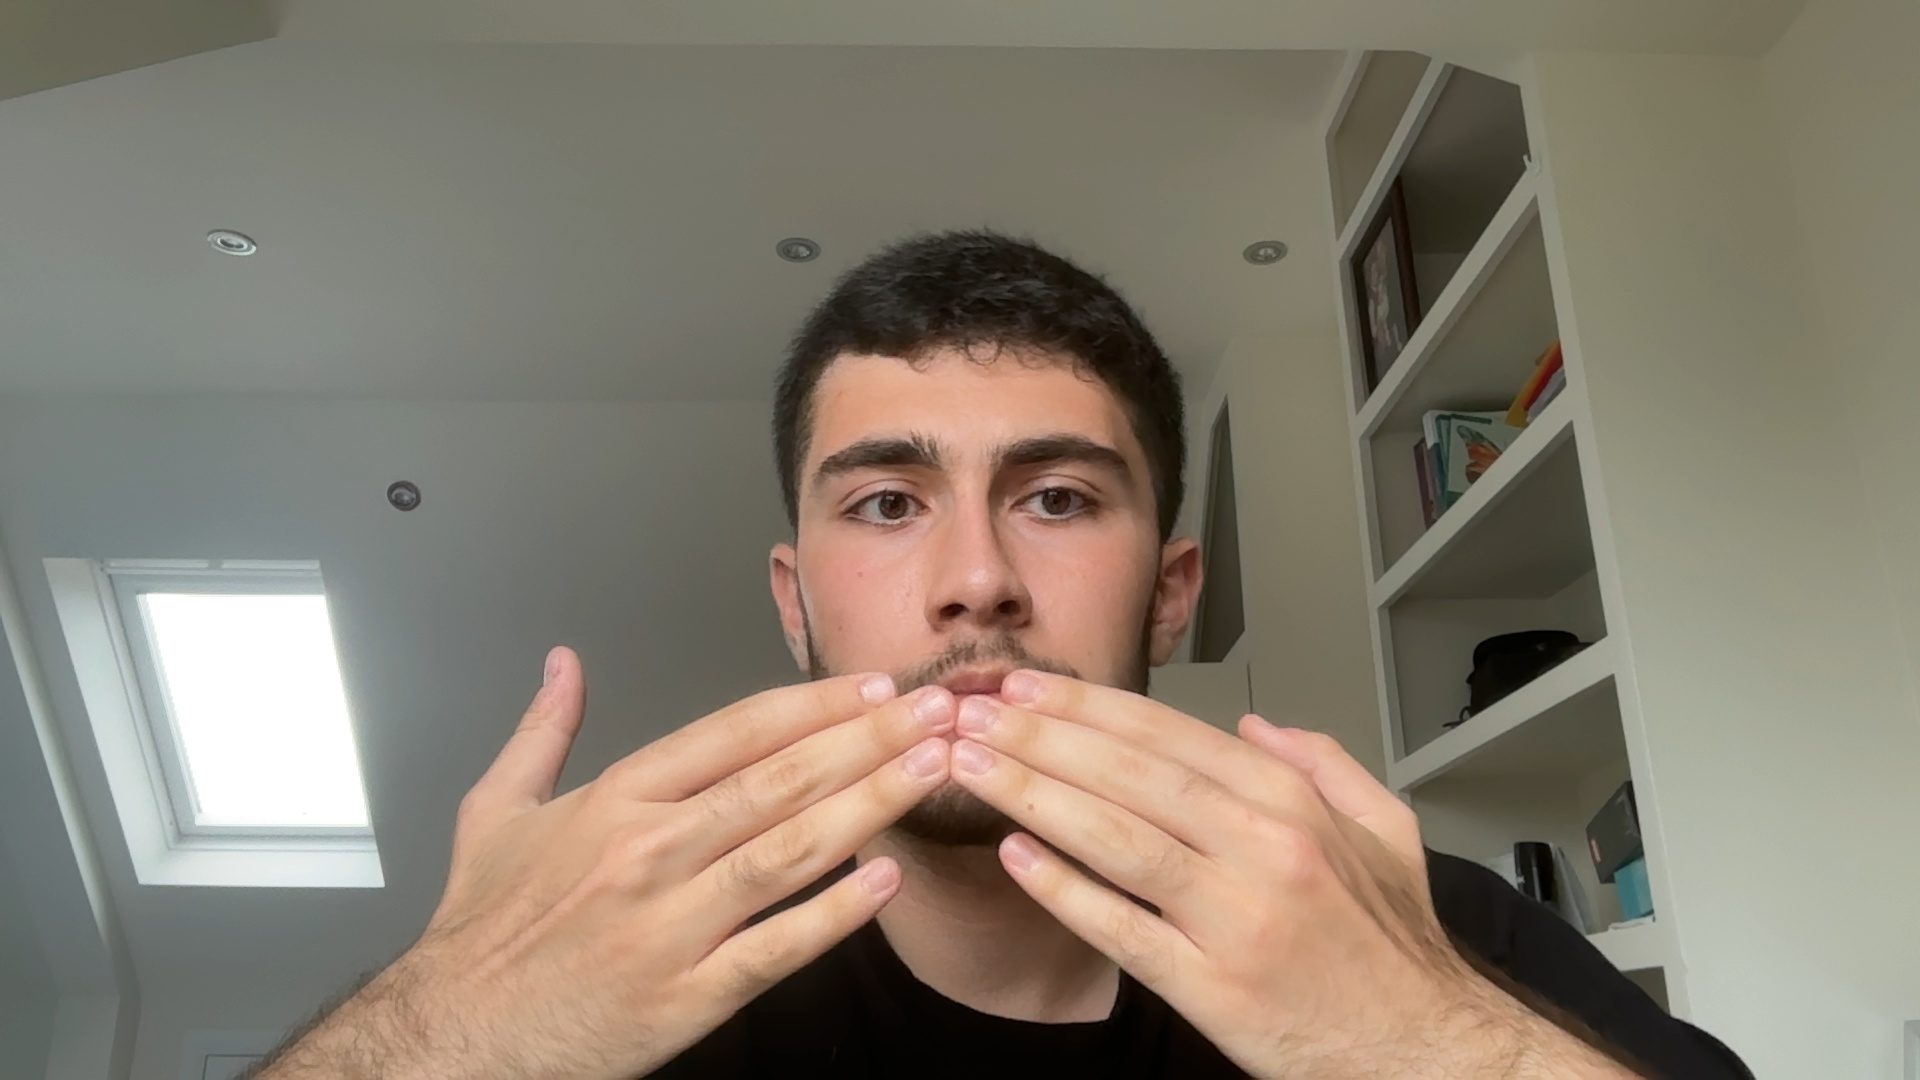Thank You: (371, 621, 1592, 1080)
